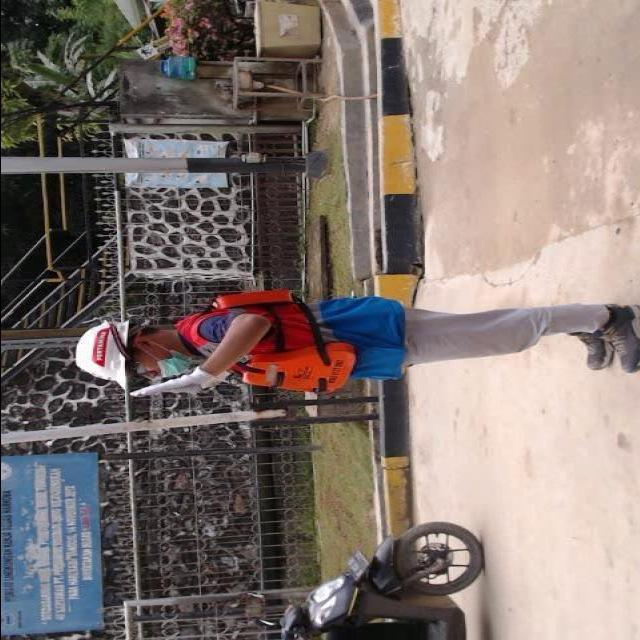helmet: (66, 314, 136, 398)
